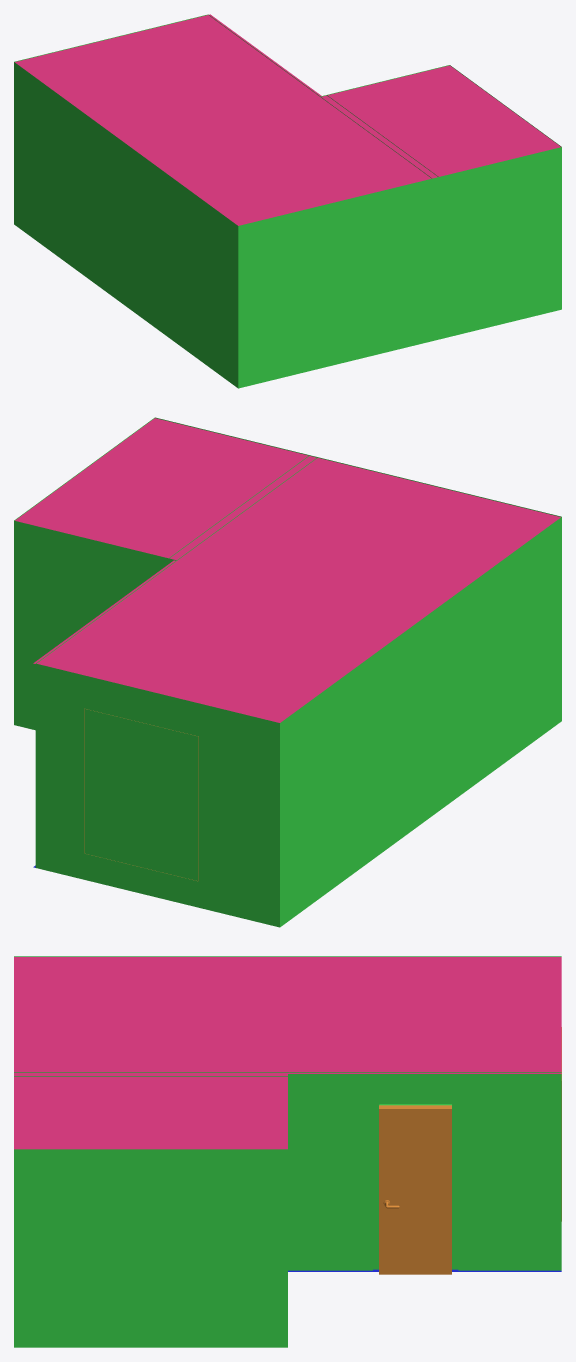
The model's file is Studio 1.fbx.
3 renders of one model, top to bottom at view 1: azimuth 30°, elevation 25°; view 2: azimuth 150°, elevation 25°; view 3: azimuth 270°, elevation 25°, orthographic. The views are drawn at different scales.
Parts seen in each view (by area): view 1: Mur, Plafond; view 2: Mur, Plafond; view 3: Mur, Plafond, Porte_Entrée.
Part boxes in pixels (box(x1,y1,x2,y2)): Mur: box(14, 14, 561, 388); Plafond: box(15, 14, 560, 225); Mur: box(14, 417, 561, 927); Plafond: box(15, 418, 560, 722); Mur: box(14, 956, 561, 1347); Plafond: box(14, 957, 561, 1149); Porte_Entrée: box(379, 1105, 451, 1274).
Size of the model in its own units: 500 by 240 by 600.
